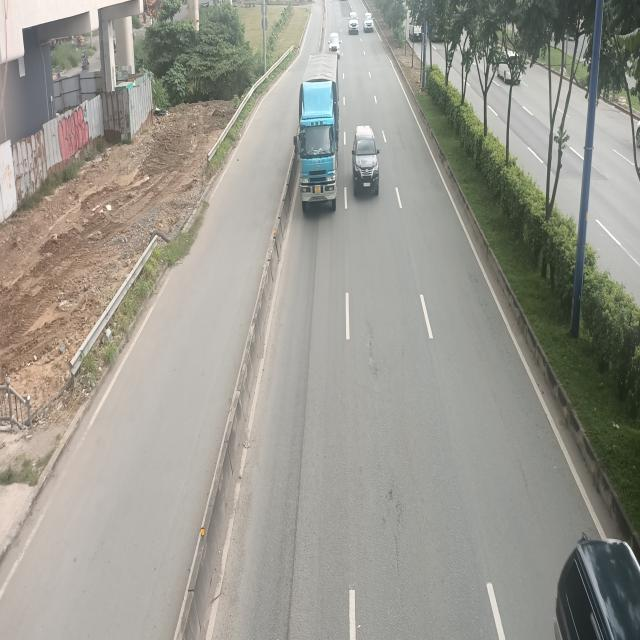car: (352, 125, 381, 198)
truck: (293, 54, 339, 212)
